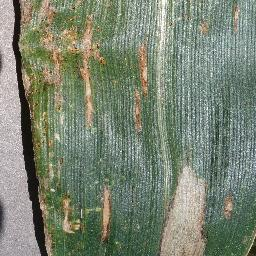Gray_Leaf_Spot: (8, 1, 57, 256), (156, 159, 215, 256), (78, 2, 113, 133), (41, 2, 78, 121), (133, 47, 156, 131), (55, 193, 93, 239), (95, 184, 113, 245), (225, 0, 247, 31), (213, 198, 239, 222), (190, 15, 215, 36)
